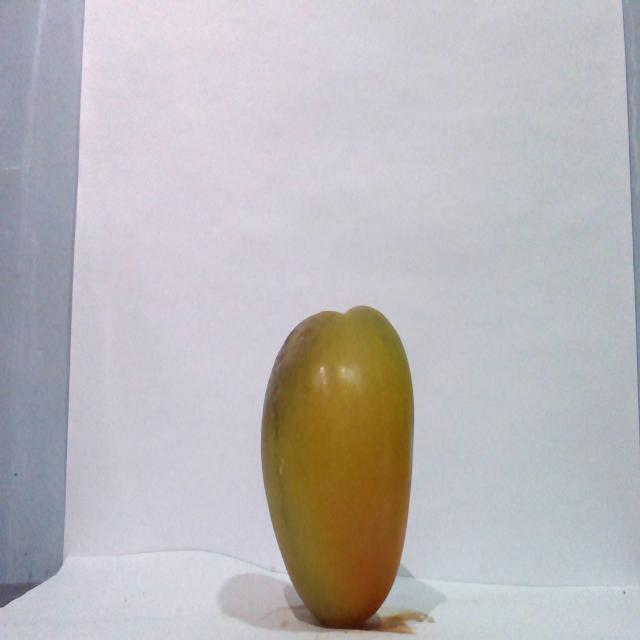Red: (258, 303, 415, 628)
